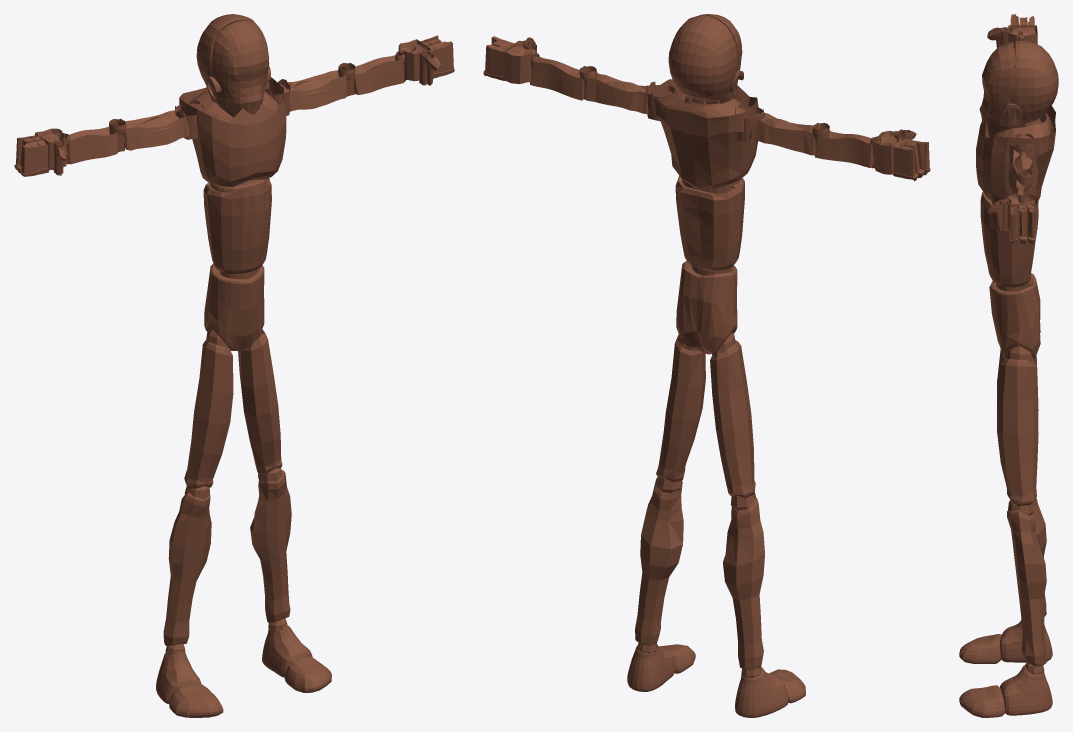
The picture shows the model from 3 angles, left to right: view 1: azimuth 30°, elevation 25°; view 2: azimuth 150°, elevation 25°; view 3: azimuth 270°, elevation 25°; orthographic projection. The views are drawn at different scales.
Visible parts, largest first — view 1: base_mannequin.glb, base_mannequin.glb_2; view 2: base_mannequin.glb, base_mannequin.glb_2; view 3: base_mannequin.glb, base_mannequin.glb_2.
Boxes of the visible parts, left/top/right/bottom form: base_mannequin.glb: left=14, top=14, right=454, bottom=717; base_mannequin.glb_2: left=59, top=51, right=405, bottom=654; base_mannequin.glb: left=483, top=14, right=930, bottom=717; base_mannequin.glb_2: left=530, top=53, right=881, bottom=677; base_mannequin.glb: left=959, top=14, right=1058, bottom=717; base_mannequin.glb_2: left=991, top=39, right=1044, bottom=674.
Size of the model in its own units: 1.52 by 2.24 by 0.3161.
Materials: 3 (3 with a texture image).
